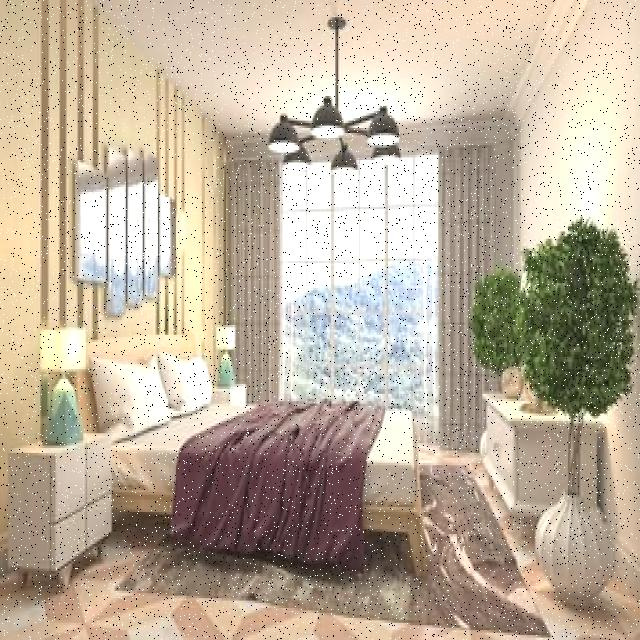bed: (90, 330, 426, 532)
